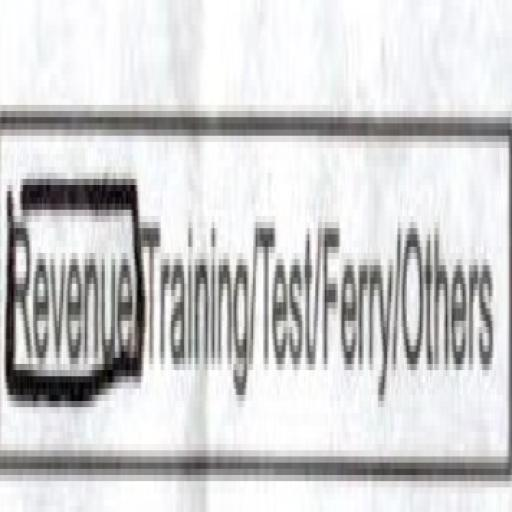check: (0, 58, 142, 512)
